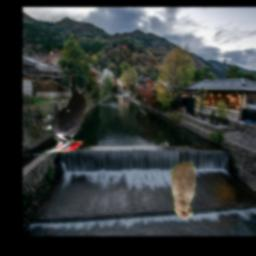Sparrow: (171, 148, 196, 219)
Woodpecker: (43, 74, 88, 154)
